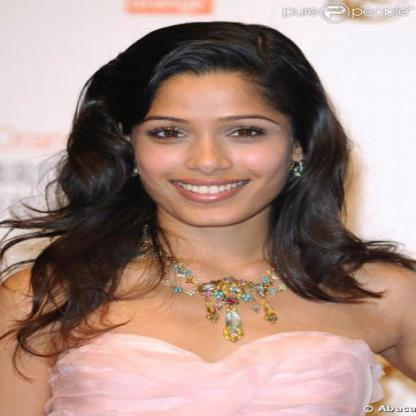long-hair: (37, 227, 364, 273)
